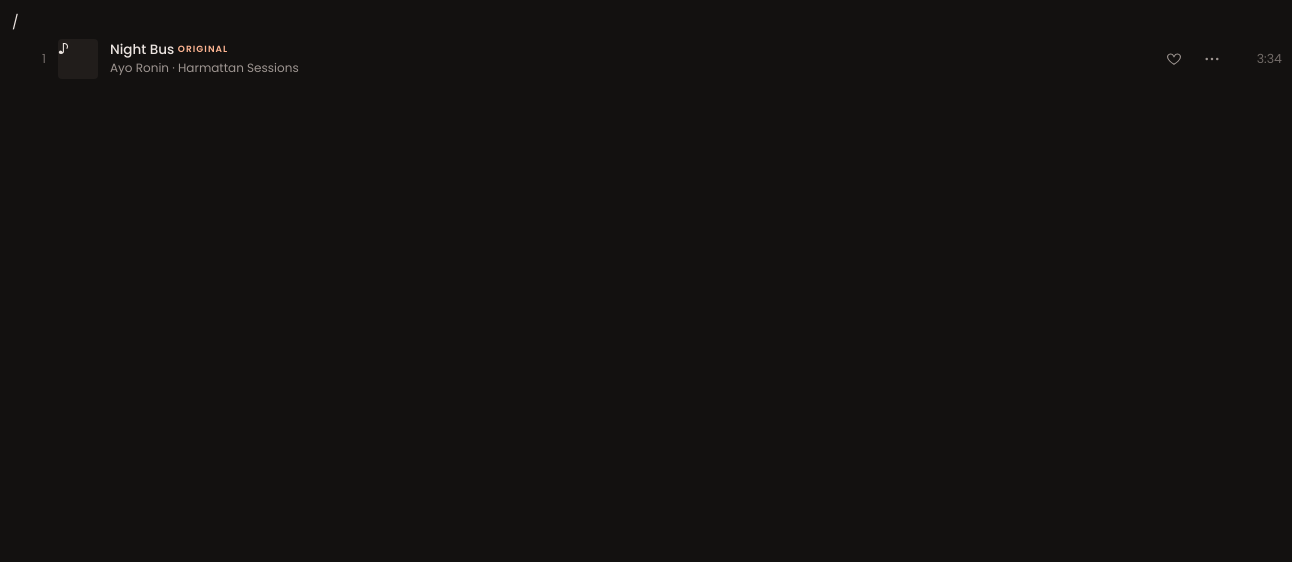
Test: opening a menu › opens the track menu on right-click and suppresses the browser one
Right-click the element with class "track-row": (78, 59) top-left (12, 33), bottom-right (1291, 85)
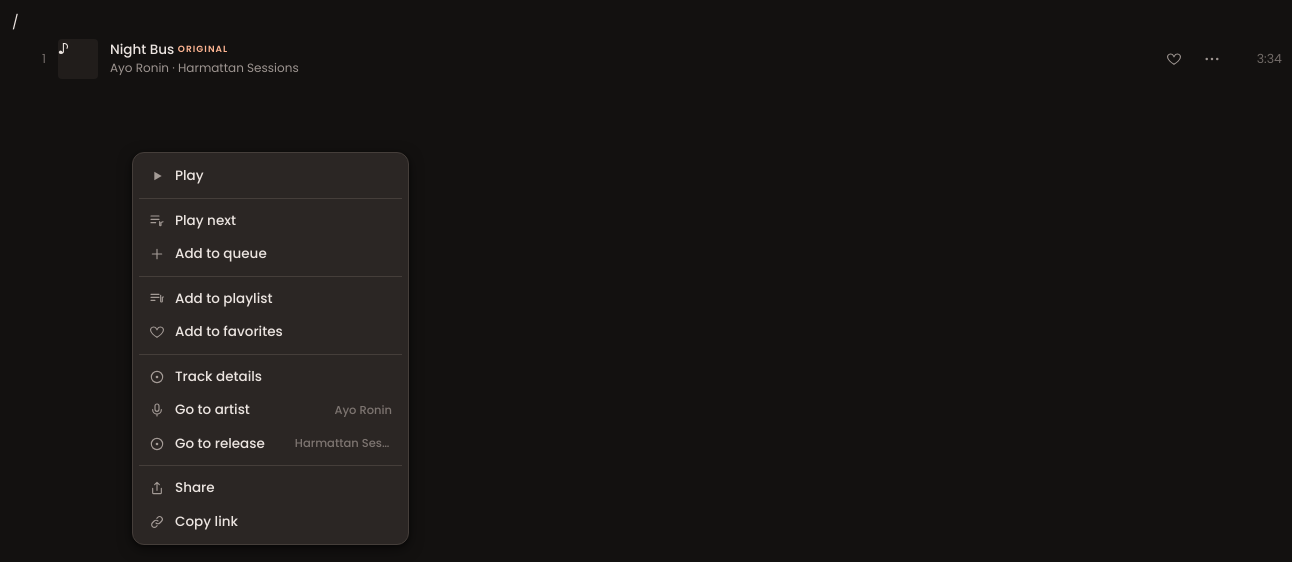
Expected: the text "Play next" is shown, top-left (175, 210), bottom-right (236, 230)
Expected: the text "Go to artist" is shown, top-left (175, 400), bottom-right (250, 419)
